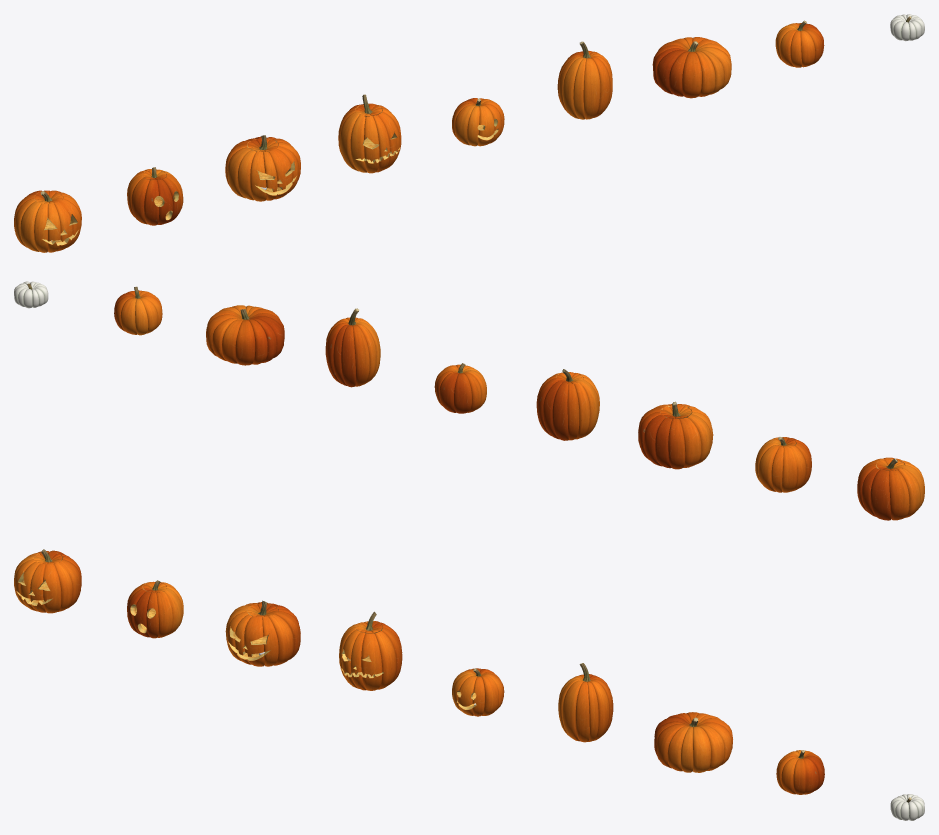
File: pumpkins.glb
3 views of the same model, one above another, from view 1: azimuth 30°, elevation 25°; view 2: azimuth 150°, elevation 25°; view 3: azimuth 330°, elevation 25° (orthographic).
Visible parts, largest first — view 1: pumpkin_whole_2, pumpkin_C, pumpkin_D, pumpkin_A, pumpkin_whole_1, pumpkin_B, pumpkin_E, pumpkin_whole_3, pumpkin_white_1; view 2: pumpkin_whole_2, pumpkin_C, pumpkin_D, pumpkin_A, pumpkin_whole_1, pumpkin_B, pumpkin_E, pumpkin_whole_3, pumpkin_white_1; view 3: pumpkin_whole_2, pumpkin_C, pumpkin_D, pumpkin_A, pumpkin_whole_1, pumpkin_B, pumpkin_E, pumpkin_whole_3, pumpkin_white_1.
Part boxes in pixels (bbox=[...]): pumpkin_whole_2: bbox=[652, 37, 731, 98]; pumpkin_C: bbox=[225, 136, 300, 201]; pumpkin_D: bbox=[338, 103, 401, 173]; pumpkin_A: bbox=[14, 190, 81, 252]; pumpkin_whole_1: bbox=[557, 41, 612, 119]; pumpkin_B: bbox=[127, 169, 183, 225]; pumpkin_E: bbox=[452, 98, 504, 146]; pumpkin_whole_3: bbox=[775, 20, 824, 67]; pumpkin_white_1: bbox=[890, 14, 924, 41]; pumpkin_whole_2: bbox=[206, 305, 284, 365]; pumpkin_C: bbox=[638, 404, 713, 469]; pumpkin_D: bbox=[536, 372, 599, 440]; pumpkin_A: bbox=[857, 457, 924, 520]; pumpkin_whole_1: bbox=[325, 308, 380, 387]; pumpkin_B: bbox=[755, 437, 811, 492]; pumpkin_E: bbox=[434, 363, 486, 413]; pumpkin_whole_3: bbox=[114, 286, 162, 335]; pumpkin_white_1: bbox=[14, 281, 48, 308]; pumpkin_whole_2: bbox=[654, 712, 732, 772]; pumpkin_C: bbox=[225, 602, 300, 666]; pumpkin_D: bbox=[339, 621, 402, 690]; pumpkin_A: bbox=[14, 550, 81, 613]; pumpkin_whole_1: bbox=[558, 663, 613, 742]; pumpkin_B: bbox=[127, 581, 183, 638]; pumpkin_E: bbox=[452, 668, 504, 716]; pumpkin_whole_3: bbox=[776, 750, 824, 794]; pumpkin_white_1: bbox=[890, 794, 924, 820].
Bounding box in the file's own units: 5.05 × 0.4012 × 0.37.
6 materials, 3 textured.
